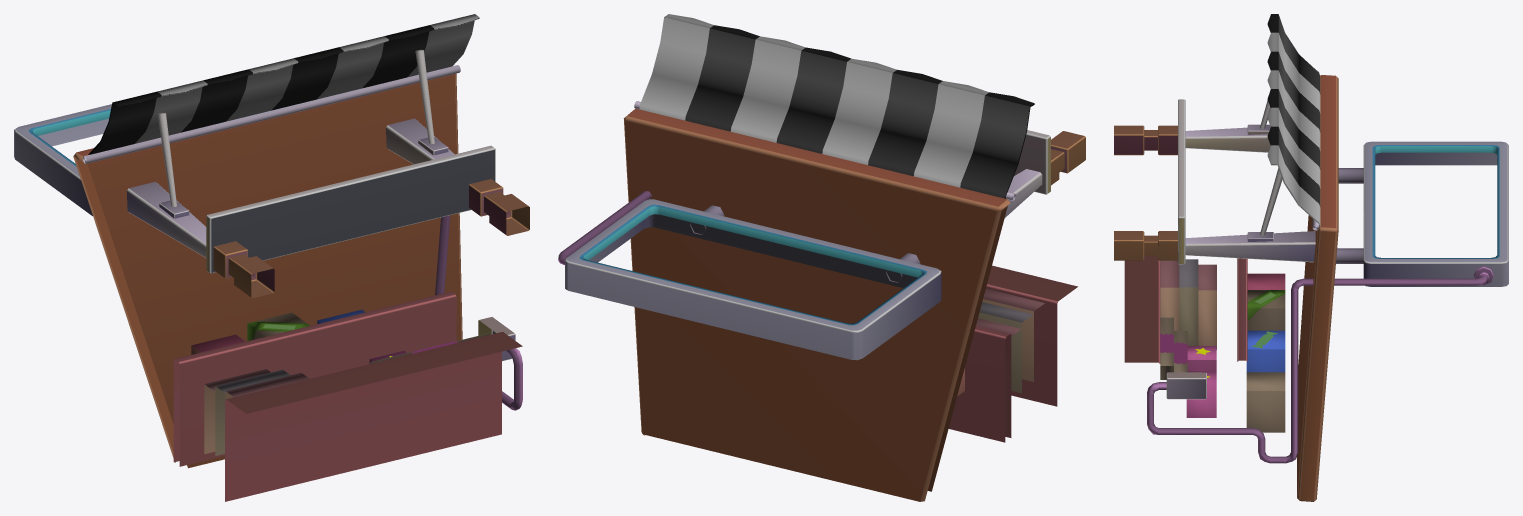
File: CarsFunHut.fbx
3 views of the same model, side by side, from view 1: azimuth 30°, elevation 25°; view 2: azimuth 150°, elevation 25°; view 3: azimuth 270°, elevation 25° (orthographic). The views are drawn at different scales.
Visible parts, largest first — view 1: CarsFunHut; view 2: CarsFunHut; view 3: CarsFunHut.
Boxes of the visible parts, bbox=[...] form: CarsFunHut: bbox=[14, 14, 529, 501]; CarsFunHut: bbox=[558, 14, 1085, 501]; CarsFunHut: bbox=[1114, 14, 1508, 501].
Size of the model in its own units: 349 by 356 by 376.
